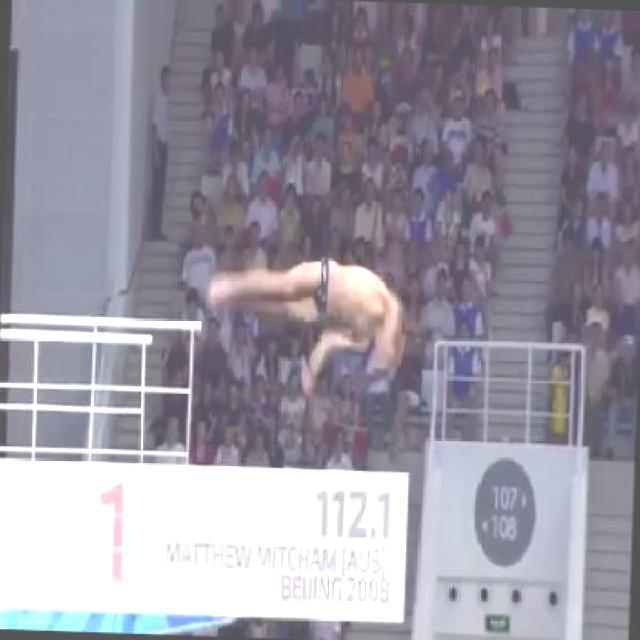non-fight: (207, 242, 410, 395)
